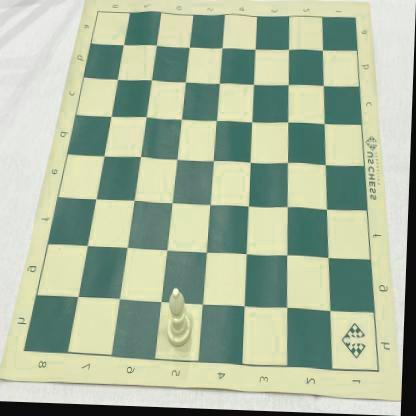white-bishop: (168, 290, 194, 350)
